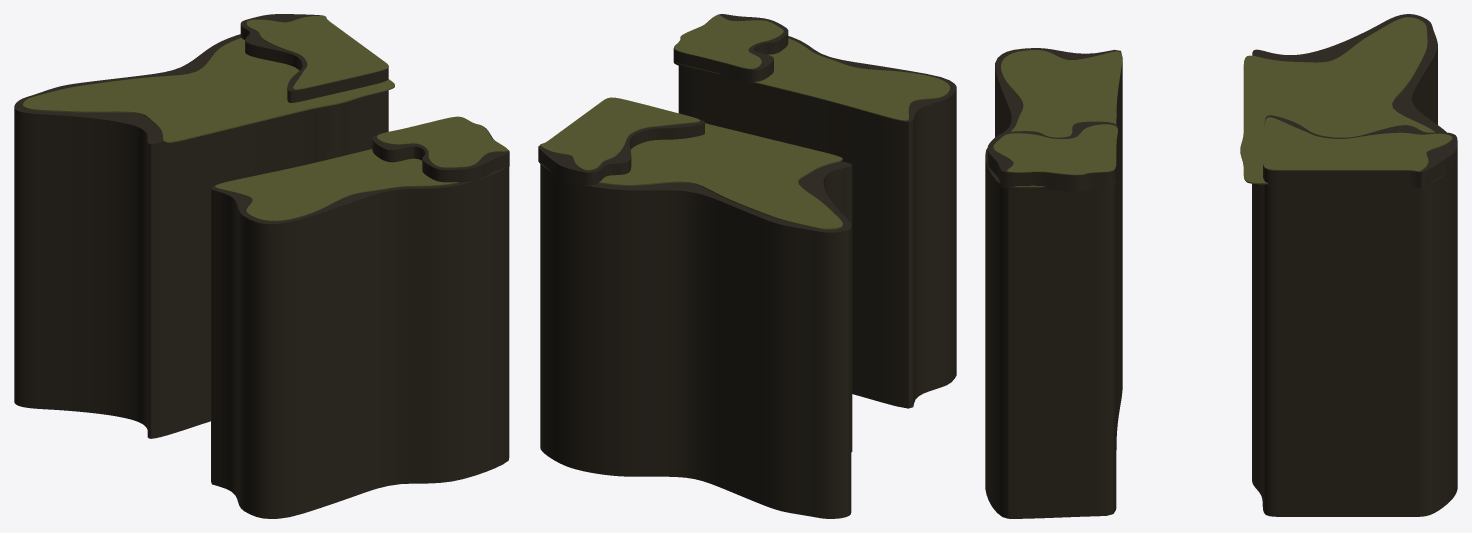
File: terrace_guitar.fbx
The picture shows the model from 3 angles, left to right: view 1: azimuth 30°, elevation 25°; view 2: azimuth 150°, elevation 25°; view 3: azimuth 270°, elevation 25°; orthographic projection. The views are drawn at different scales.
Parts seen in each view (by area): view 1: Plane.421, dirt_upper, Grass_upper, Plane.448, dirt_upper.002, Plane.506, dirt_upper.001, Plane.505; view 2: dirt_upper, Plane.421, Grass_upper, Plane.448, dirt_upper.002, Plane.506, dirt_upper.001, Plane.505; view 3: dirt_upper, Plane.421, Grass_upper, Plane.448, dirt_upper.002, Plane.506, dirt_upper.001, Plane.505.
Part boxes in pixels (bbox=[...]): Plane.421: bbox=[211, 167, 509, 518]; dirt_upper: bbox=[14, 34, 388, 438]; Grass_upper: bbox=[23, 38, 394, 142]; Plane.448: bbox=[215, 149, 458, 221]; dirt_upper.002: bbox=[246, 16, 388, 89]; Plane.506: bbox=[377, 116, 507, 167]; dirt_upper.001: bbox=[240, 14, 388, 102]; Plane.505: bbox=[372, 127, 509, 182]; dirt_upper: bbox=[540, 161, 852, 518]; Plane.421: bbox=[678, 36, 956, 408]; Grass_upper: bbox=[598, 123, 842, 229]; Plane.448: bbox=[674, 38, 950, 120]; dirt_upper.002: bbox=[540, 97, 699, 170]; Plane.506: bbox=[674, 15, 783, 68]; dirt_upper.001: bbox=[538, 119, 704, 185]; Plane.505: bbox=[673, 14, 788, 84]; dirt_upper: bbox=[1252, 14, 1457, 516]; Plane.421: bbox=[985, 48, 1122, 518]; Grass_upper: bbox=[1240, 17, 1434, 184]; Plane.448: bbox=[1001, 50, 1122, 187]; dirt_upper.002: bbox=[1263, 117, 1452, 171]; Plane.506: bbox=[993, 124, 1117, 175]; dirt_upper.001: bbox=[1263, 115, 1457, 188]; Plane.505: bbox=[987, 121, 1117, 191].
Bounding box in the file's own units: 45.53 × 41.85 × 51.65.
